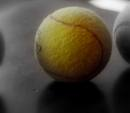tennis ball: (32, 6, 114, 84)
